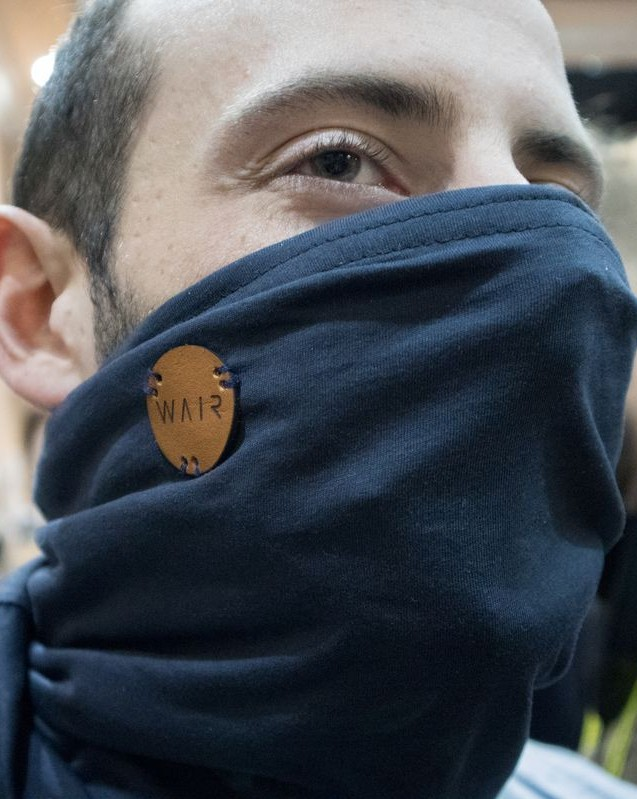with_mask: (9, 3, 630, 679)
